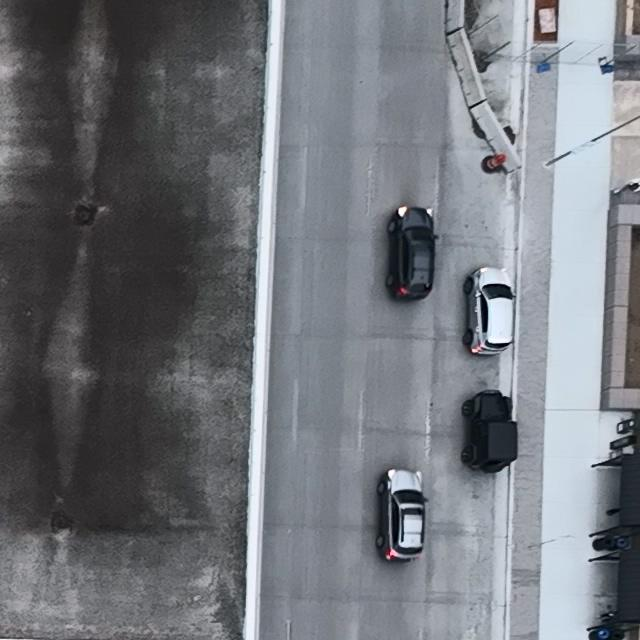car: (384, 206, 438, 301), (377, 468, 429, 564), (461, 389, 519, 473), (463, 268, 516, 356)
